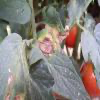Potato leaf early blight: (29, 27, 93, 99), (0, 35, 29, 97), (60, 0, 94, 33)
